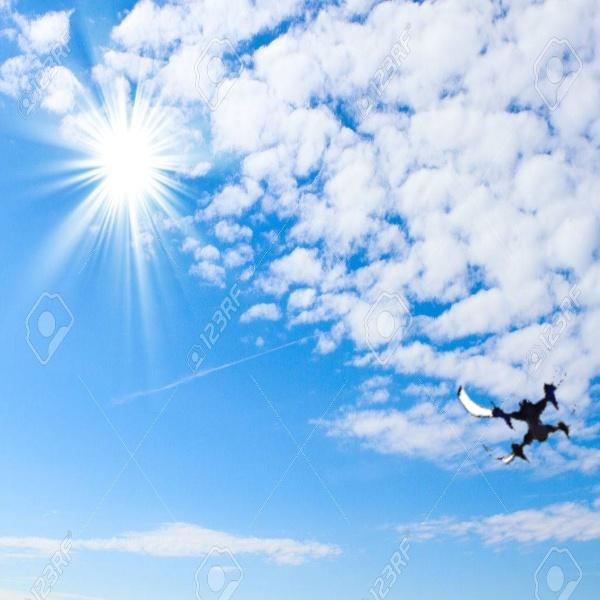drone: (463, 344, 591, 472)
